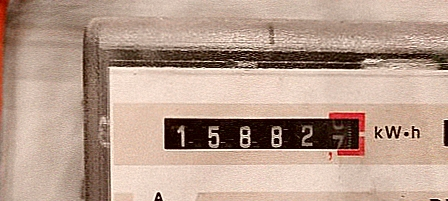1: (174, 122, 187, 148)
2: (298, 123, 315, 148)
5: (205, 123, 220, 149)
7: (329, 132, 344, 149)
8: (236, 123, 253, 148), (268, 123, 284, 148)
screen: (153, 106, 373, 164)
